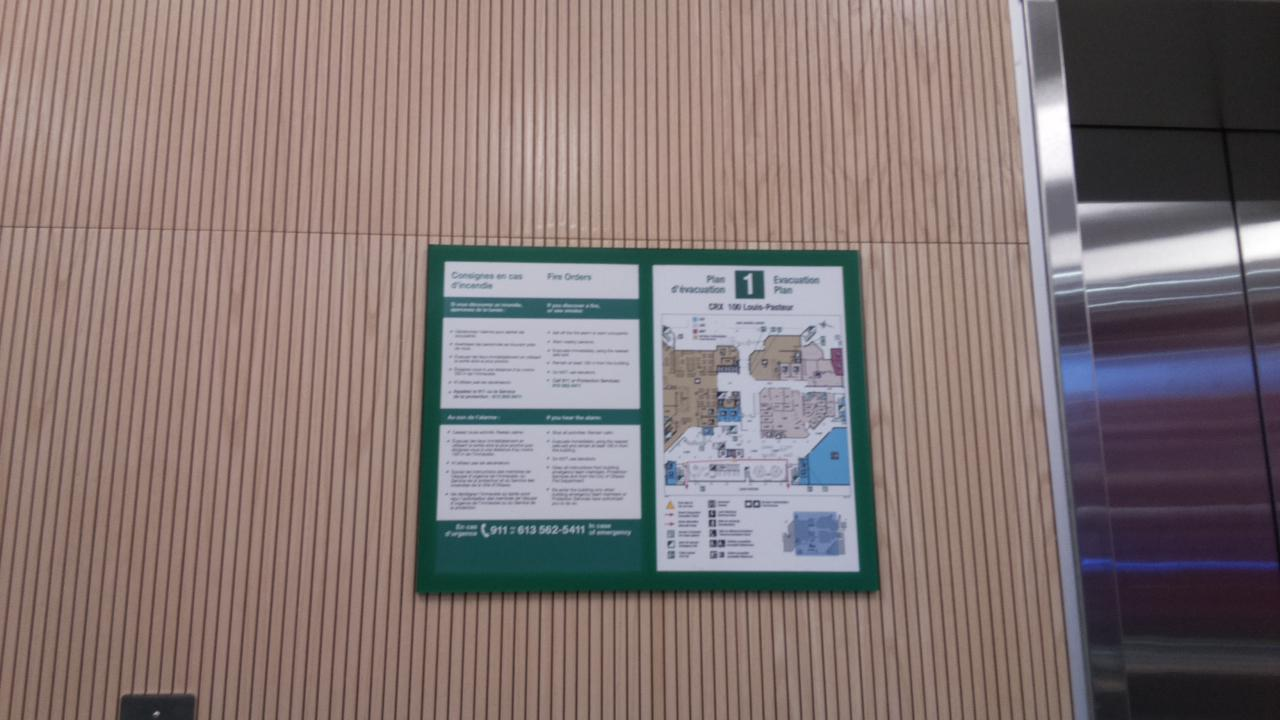sign: (414, 244, 878, 590)
